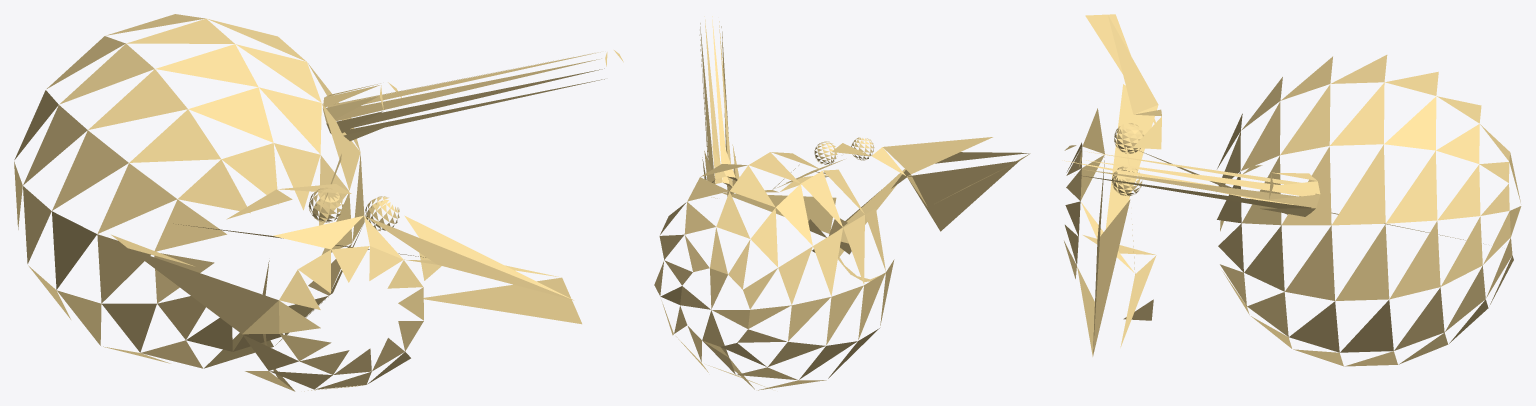
File: yoda.gltf
3 views of the same model, side by side, from view 1: azimuth 30°, elevation 25°; view 2: azimuth 150°, elevation 25°; view 3: azimuth 270°, elevation 25° (orthographic). The views are drawn at different scales.
Size of the model in its own units: 0.3228 by 0.2228 by 0.2953.
